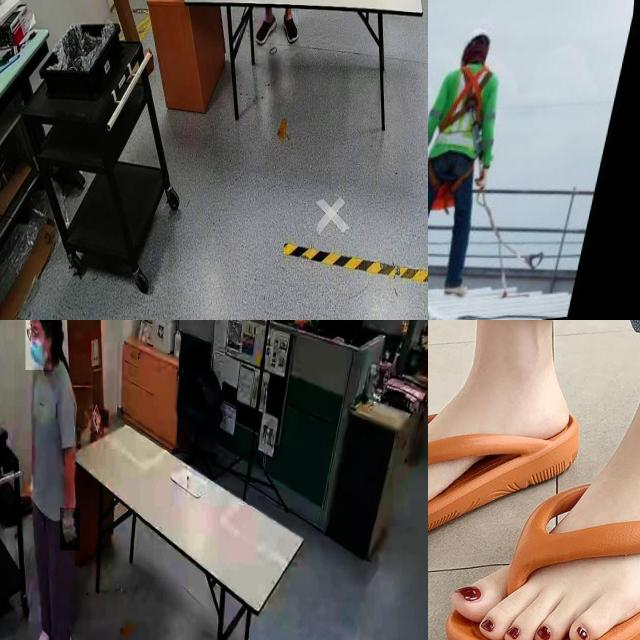Harness: (440, 66, 494, 134)
Sandals: (428, 356, 640, 640)
face_mask: (26, 320, 52, 370)
hand_glove: (60, 508, 80, 551)
person: (14, 320, 91, 640)
shoes: (253, 13, 279, 47), (33, 622, 54, 640)
